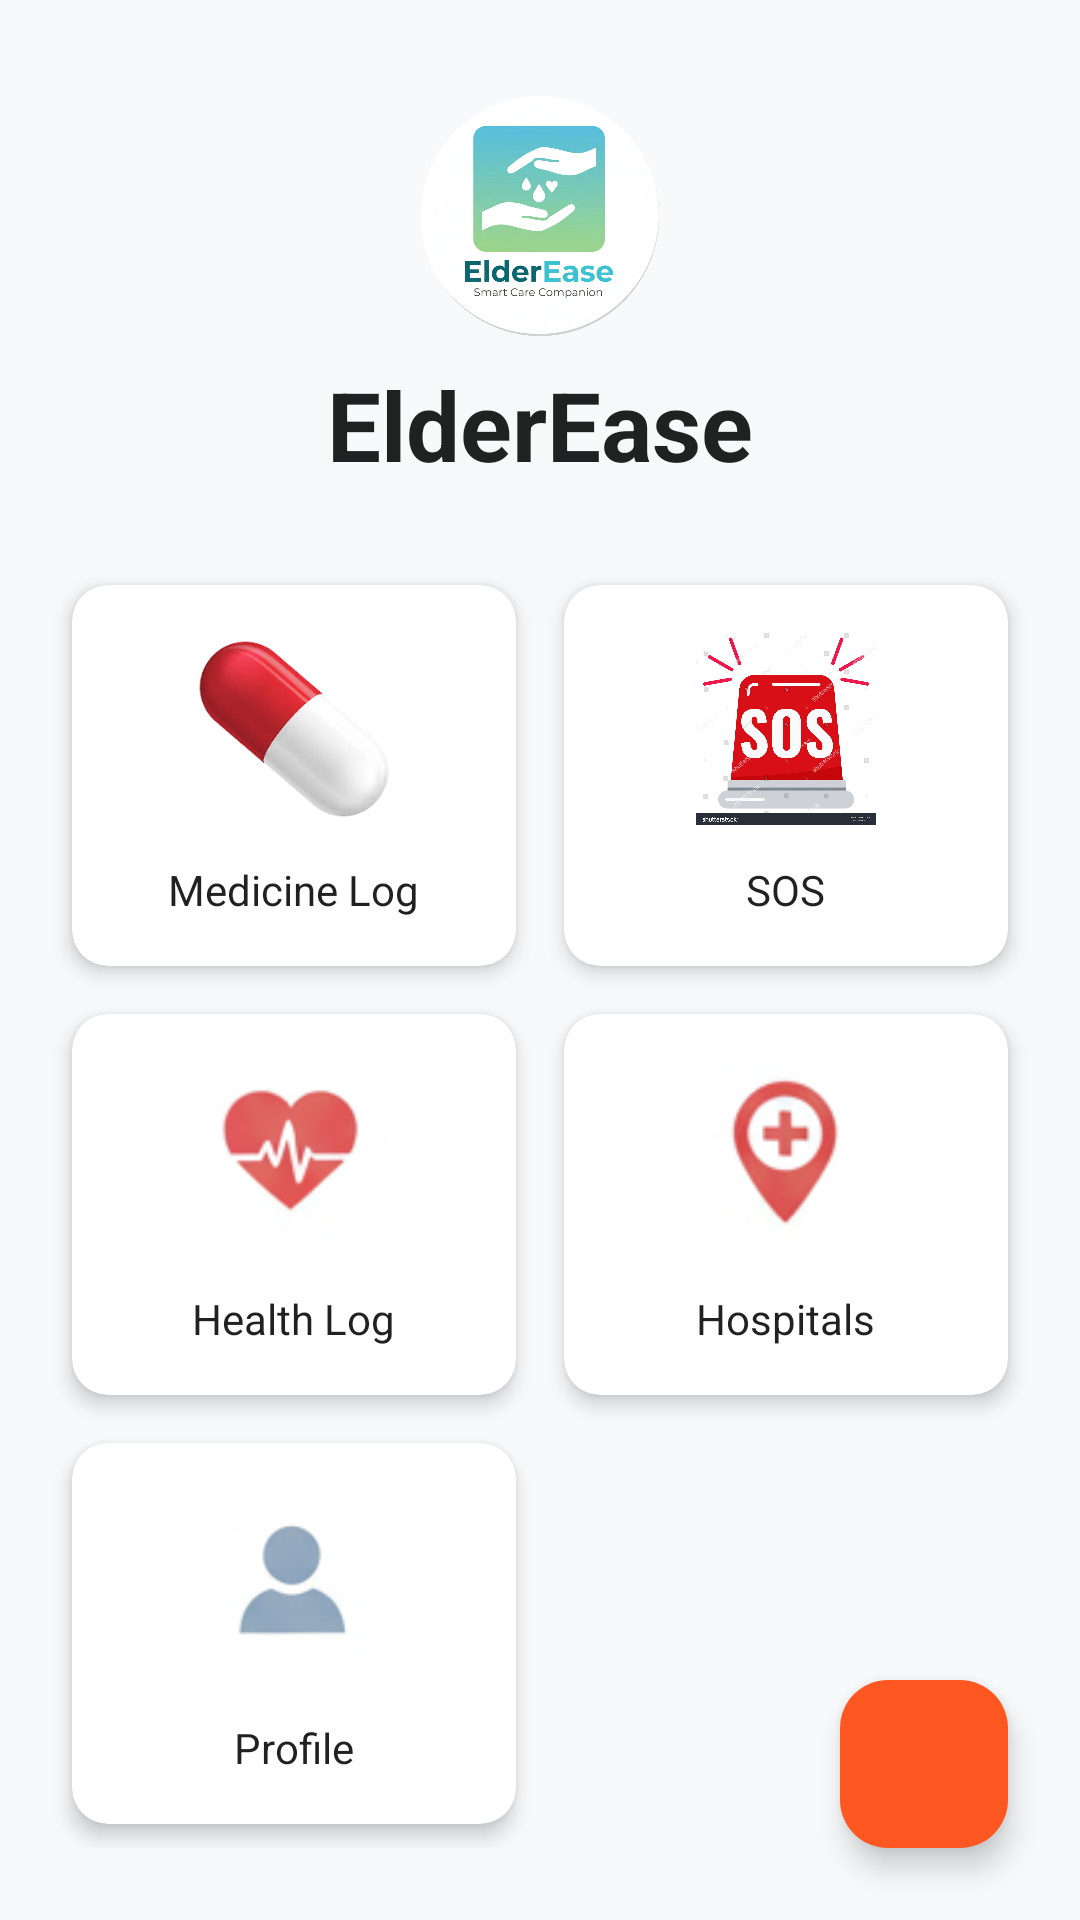

Point at icon controls on the screen. Image size 1080 x 1920, points as point (x, y).
map: point (785, 1152)
pill: point (293, 728)
